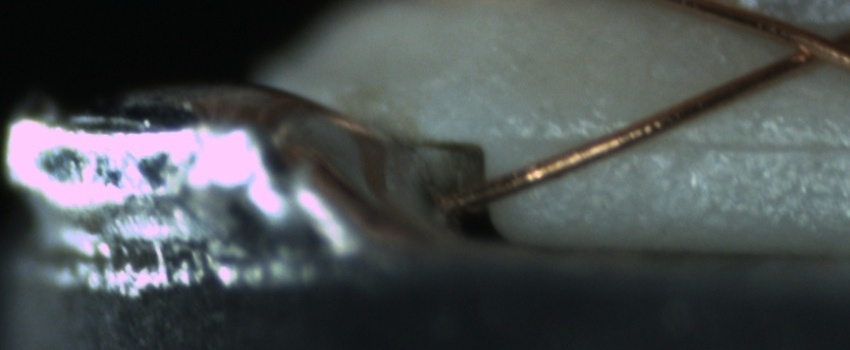CL: (769, 18, 847, 76)
DL: (535, 111, 849, 175)
